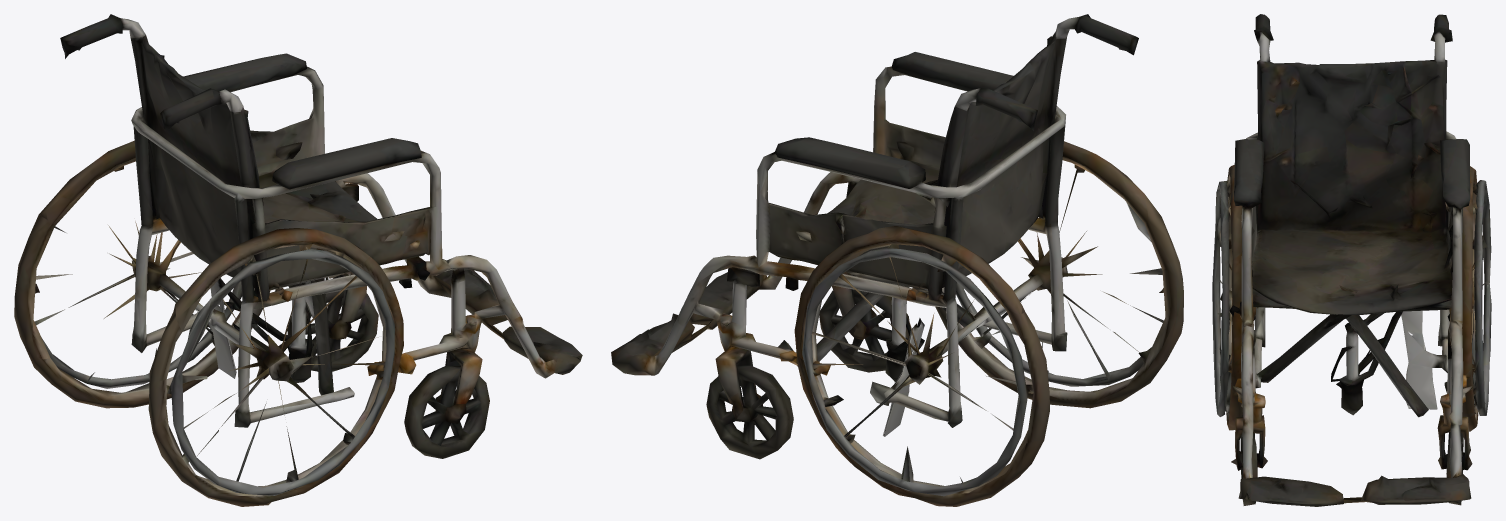
File: wheelchair.glb
The picture shows the model from 3 angles, left to right: view 1: azimuth 30°, elevation 25°; view 2: azimuth 150°, elevation 25°; view 3: azimuth 270°, elevation 25°; orthographic projection. The views are drawn at different scales.
Visible parts, largest first — view 1: tripo_node_3219d803-1f7b-442f-b192-ddb79c7f72f5; view 2: tripo_node_3219d803-1f7b-442f-b192-ddb79c7f72f5; view 3: tripo_node_3219d803-1f7b-442f-b192-ddb79c7f72f5.
Part boxes in pixels (bbox=[...]): tripo_node_3219d803-1f7b-442f-b192-ddb79c7f72f5: bbox=[14, 14, 582, 506]; tripo_node_3219d803-1f7b-442f-b192-ddb79c7f72f5: bbox=[611, 14, 1183, 506]; tripo_node_3219d803-1f7b-442f-b192-ddb79c7f72f5: bbox=[1212, 14, 1491, 506].
Size of the model in its own units: 1 by 0.8842 by 0.6015.
Materials: 1 (1 with a texture image).
